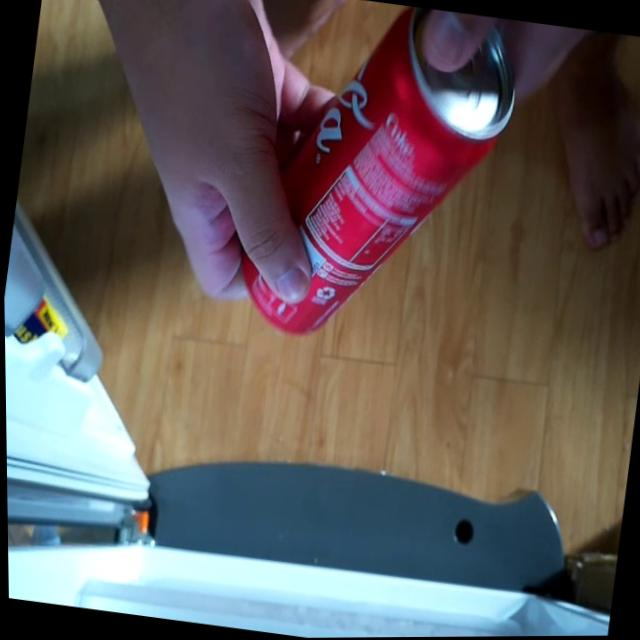coke: (218, 0, 535, 363)
